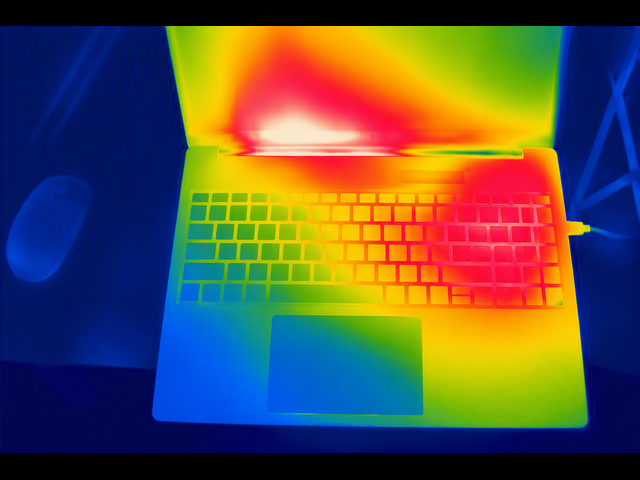c_cover: (151, 147, 589, 427)
